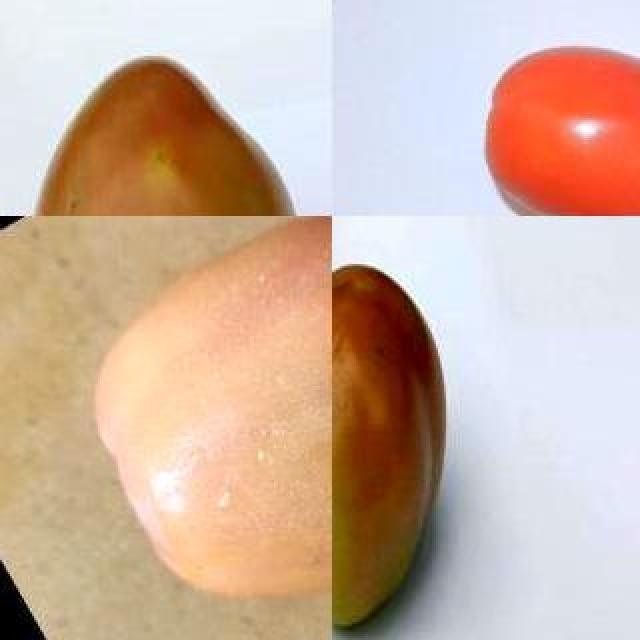Fresh_Tomato: (84, 216, 332, 610), (22, 42, 312, 216), (332, 254, 452, 638), (476, 40, 640, 216)
